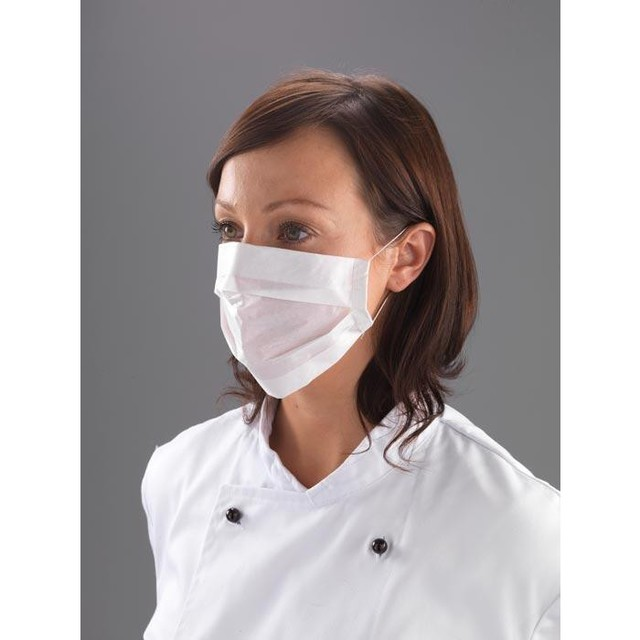mask: (213, 253, 382, 401)
